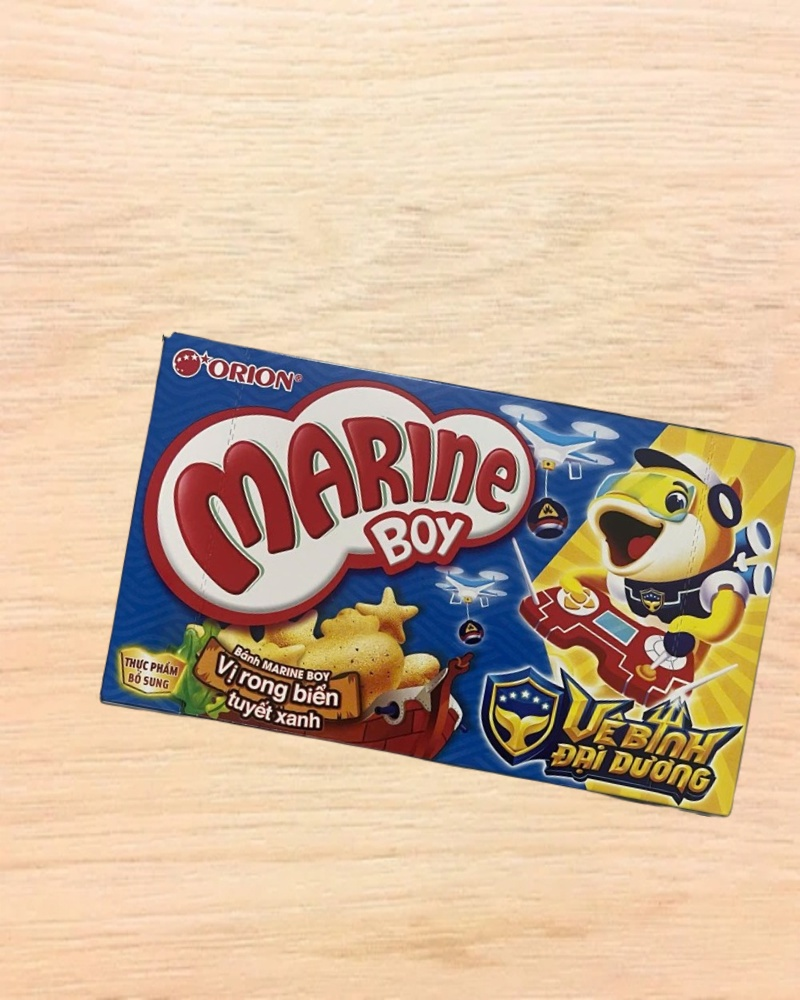Marine: (100, 331, 800, 820)
